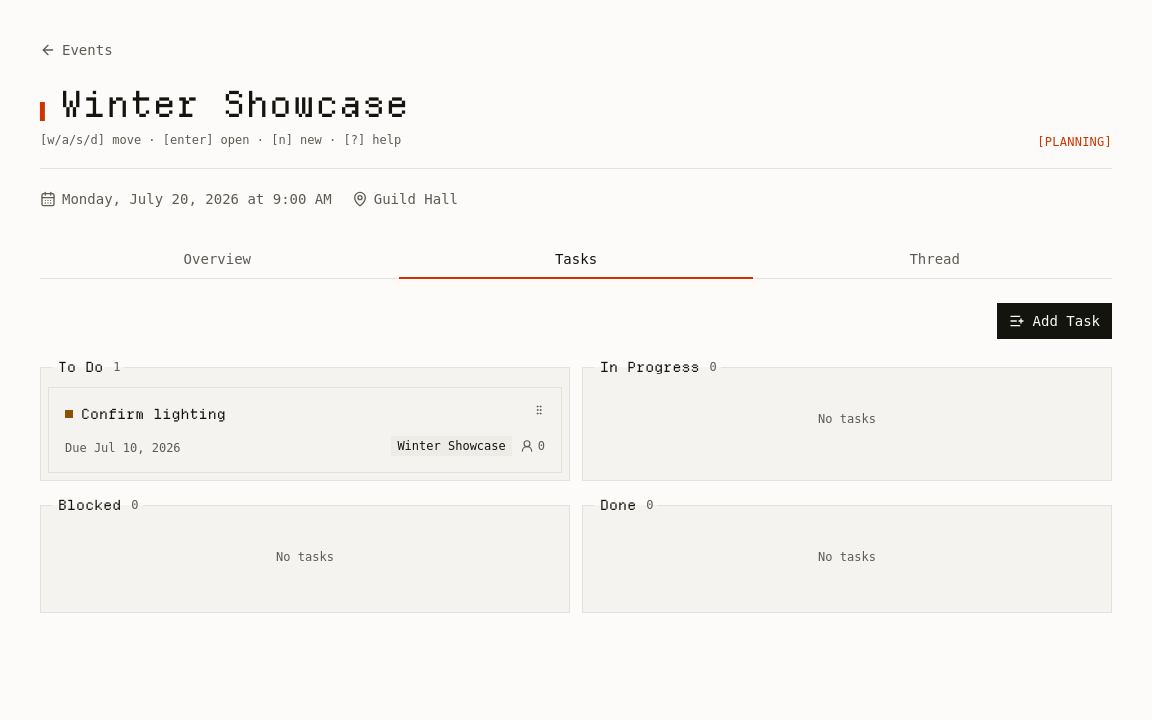
it: EventDetailPage › offers no delete control on the Tasks tab below tier 1
This screenshot has width=1152, height=720.
Click the button named "Open Confirm lighting" at point(305, 430), box [49,388,561,472]
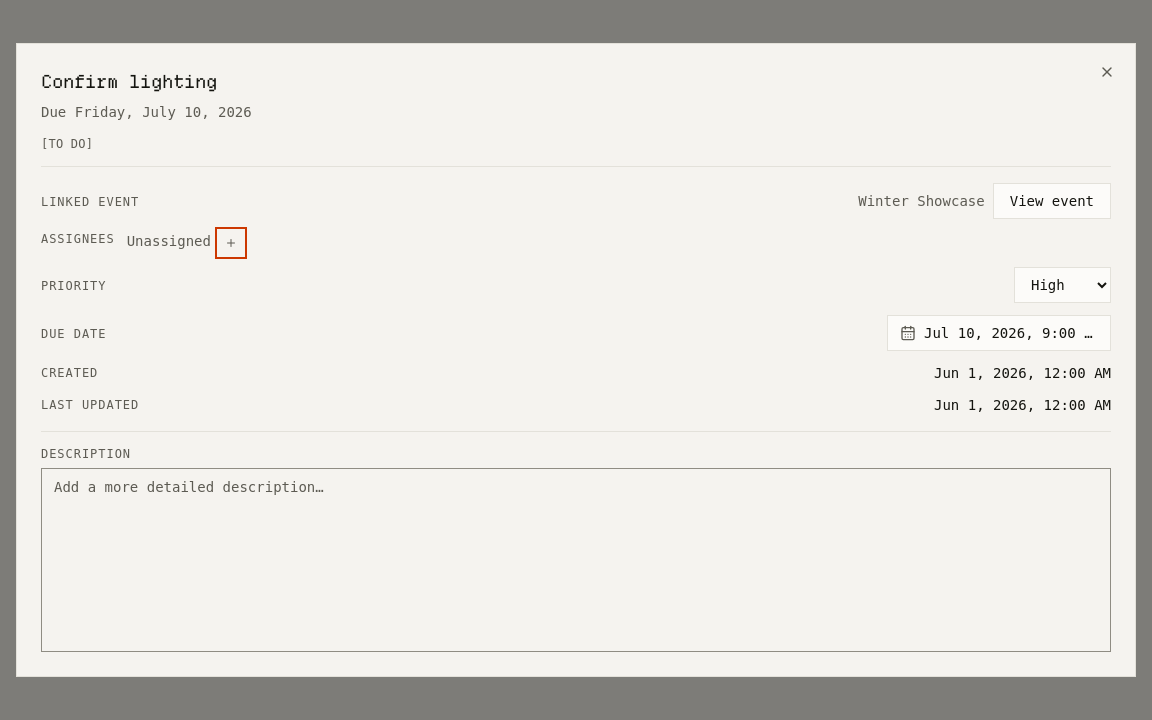
Expected: the dropdown labelled "Priority" is shown, [1014,267,1111,303]
